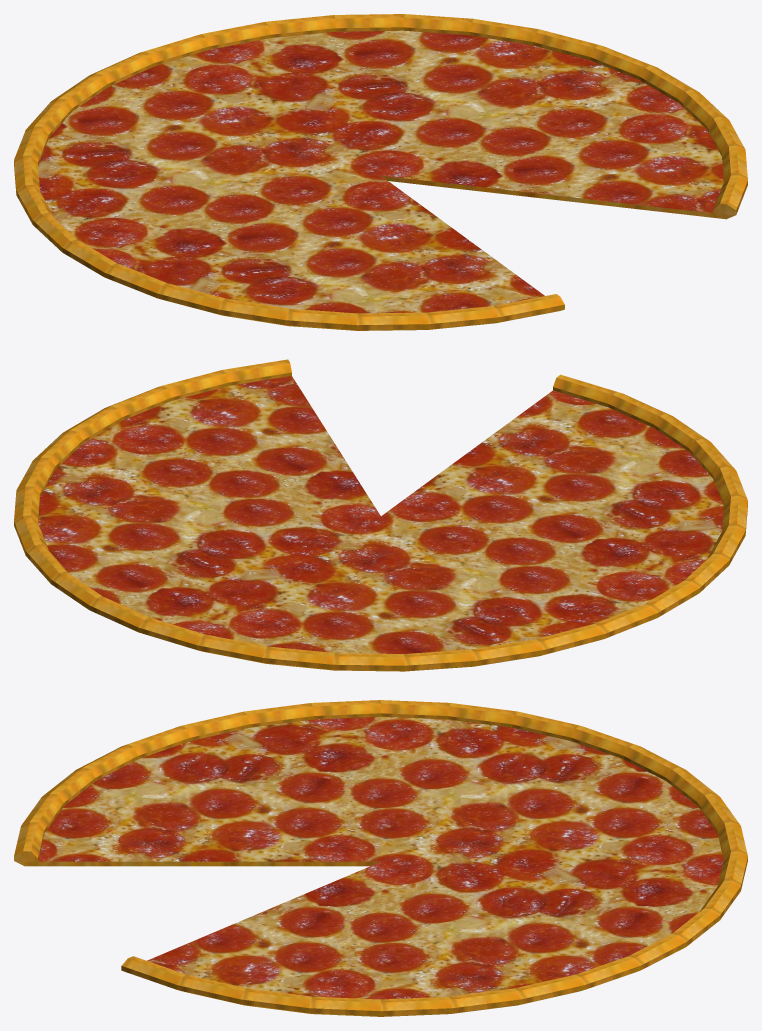
The model's file is finalpizza.dae.
3 renders of one model, top to bottom at view 1: azimuth 30°, elevation 25°; view 2: azimuth 150°, elevation 25°; view 3: azimuth 270°, elevation 25°, orthographic.
Parts seen in each view (by area): view 1: instance_0 (×2); view 2: instance_0 (×2); view 3: instance_0 (×2).
Part boxes in pixels (x1=…): instance_0 (×2): x1=14, y1=14, x2=747, y2=330; instance_0 (×2): x1=14, y1=359, x2=747, y2=671; instance_0 (×2): x1=14, y1=700, x2=747, y2=1016.
Size of the model in its own units: 9.23 by 9.23 by 0.2065.
Materials: 2 (2 with a texture image).
